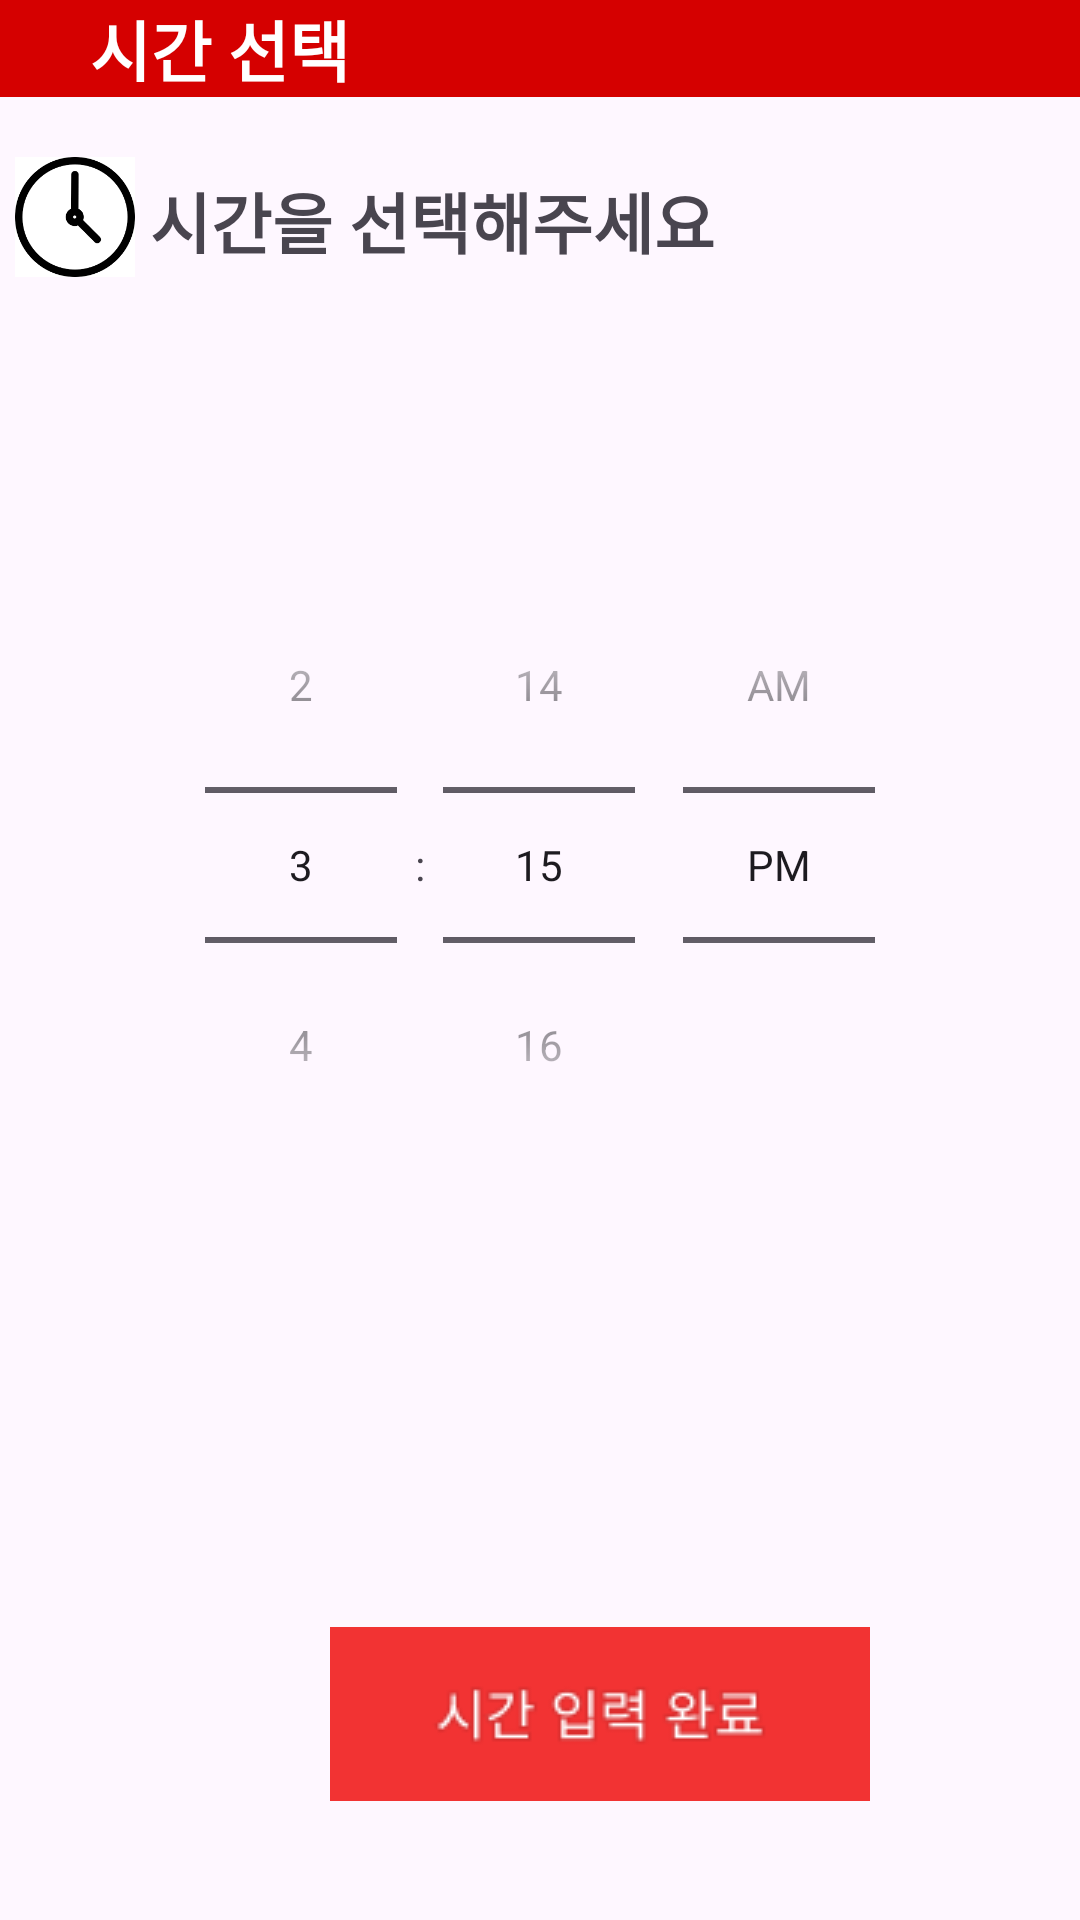

Icon bounding boxes for this 1080*1920 phone screenshot, format (x1, y1, x2, y2):
timeicon: (15, 157, 135, 277)
